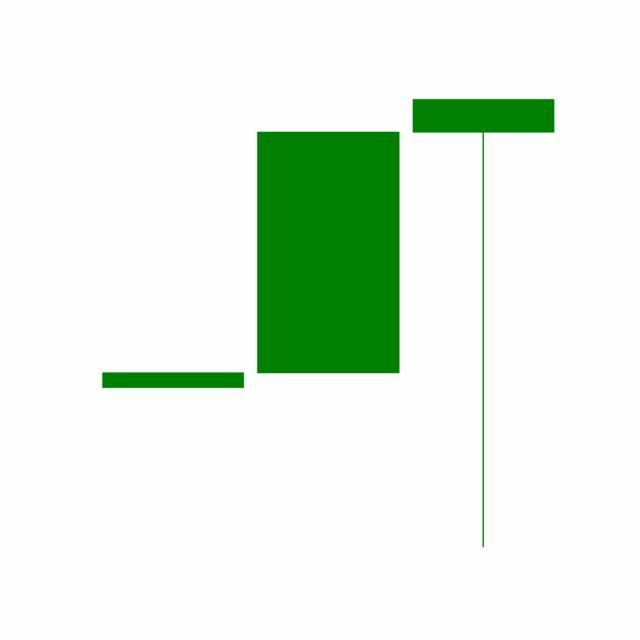Hammer: (406, 95, 562, 553)
